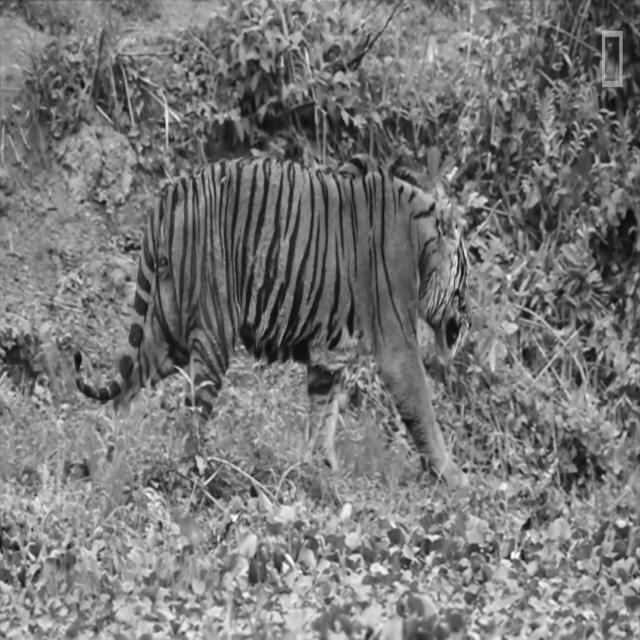TIGER: (71, 147, 476, 486)
